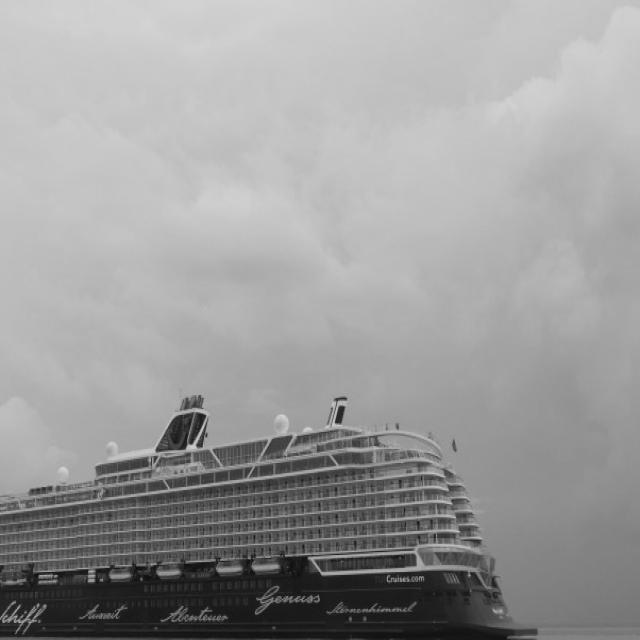cruises: (1, 390, 542, 640)
